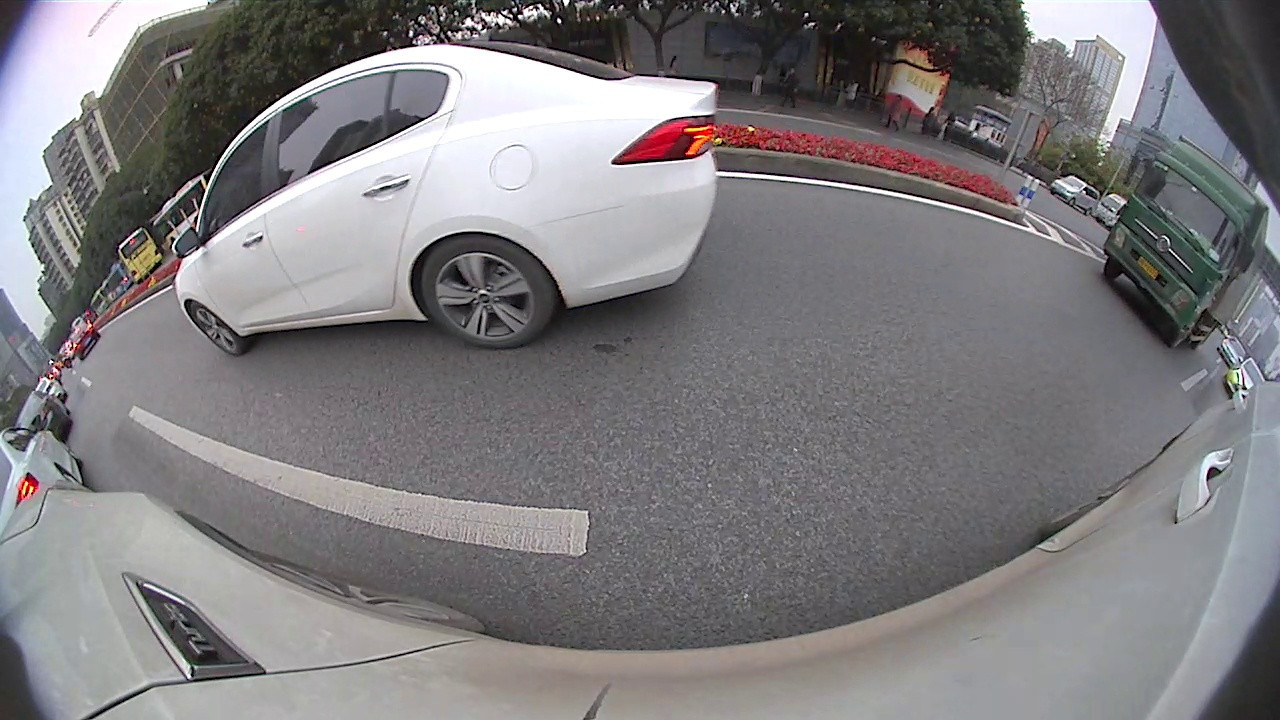bus: (152, 166, 222, 256), (116, 224, 164, 284)
car: (174, 42, 720, 357), (2, 427, 86, 544), (17, 391, 74, 449), (1052, 170, 1102, 216), (1229, 364, 1268, 400), (69, 320, 101, 359), (1217, 336, 1248, 370)
front: (188, 300, 241, 353)
rear: (419, 236, 554, 351)
truck: (1104, 133, 1274, 352)
